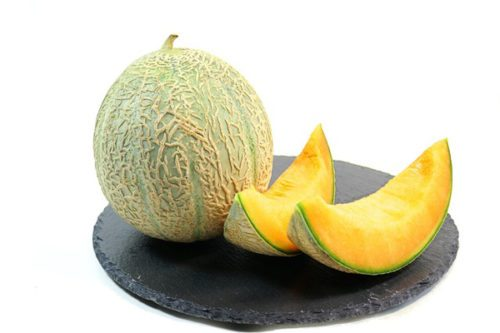Melon: (86, 48, 276, 245)
